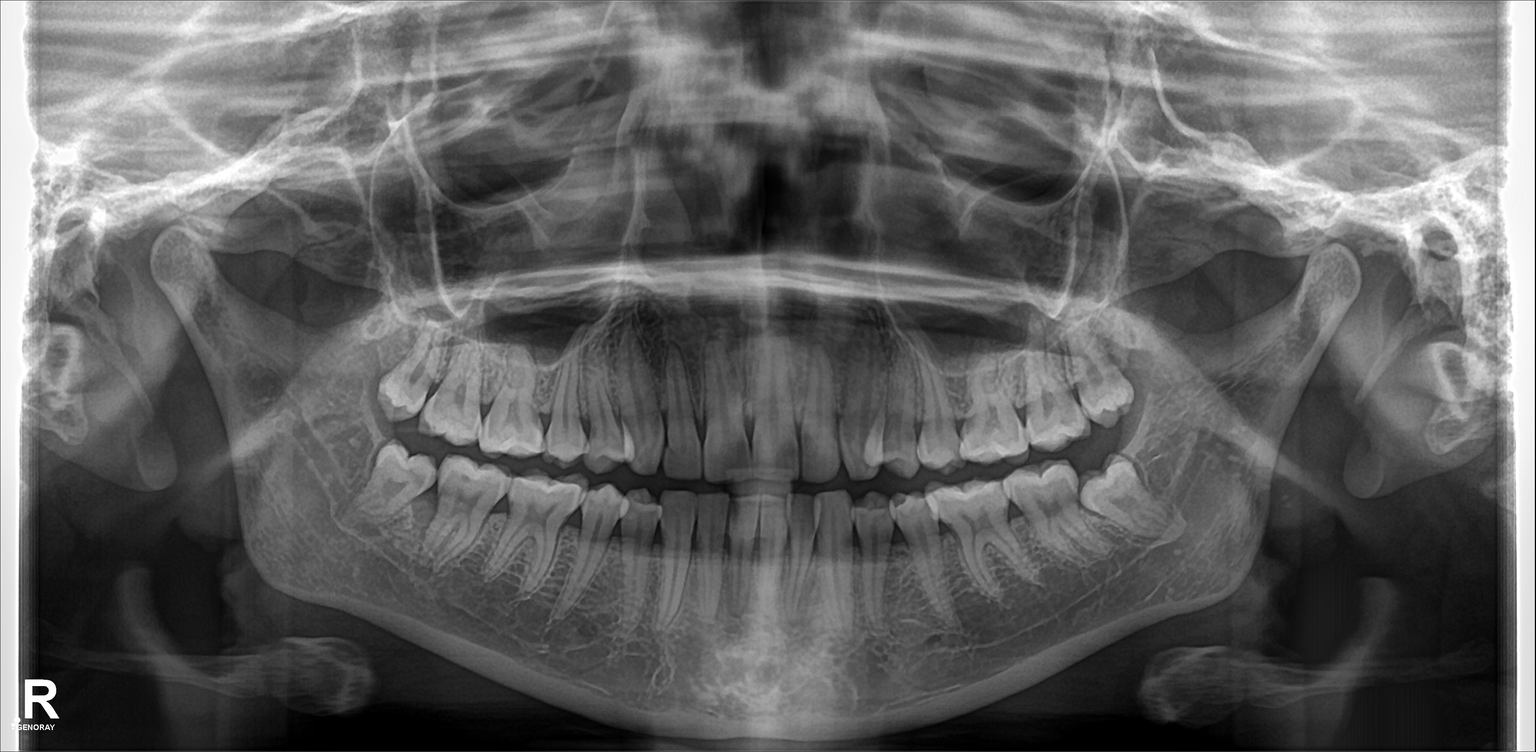Impacted Third Molar: (1078, 460, 1181, 545)
